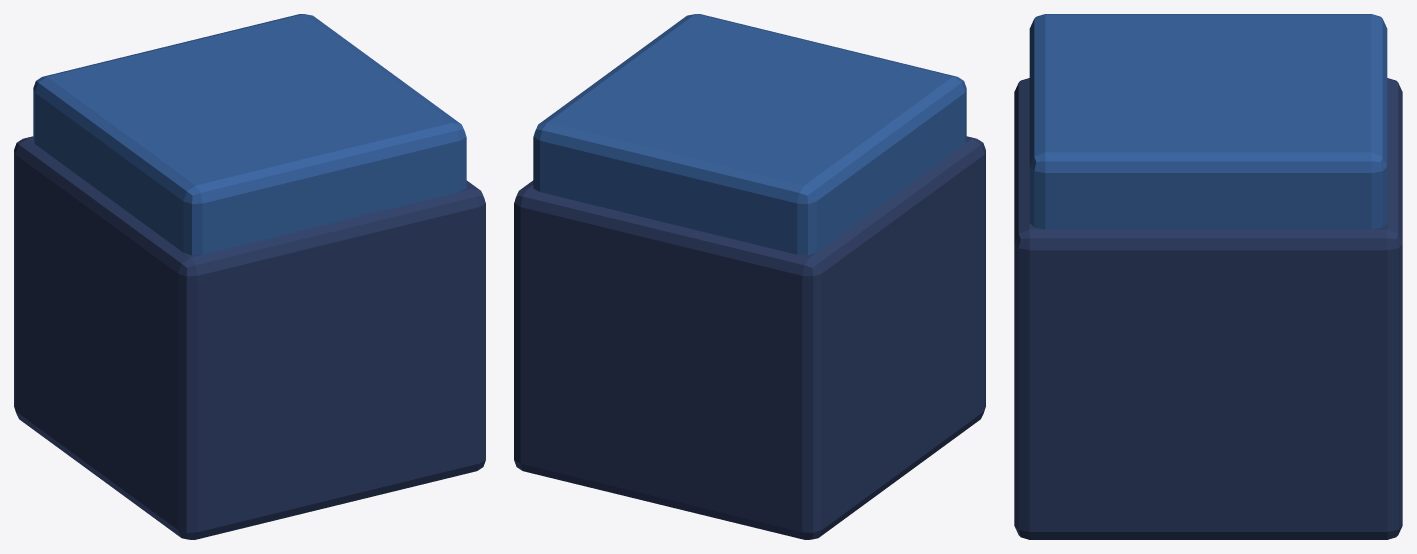
File: chalk.glb
3 views of the same model, side by side, from view 1: azimuth 30°, elevation 25°; view 2: azimuth 150°, elevation 25°; view 3: azimuth 270°, elevation 25° (orthographic). The views are drawn at different scales.
Parts seen in each view (by area): view 1: Chalk | paper sleeve, Chalk | blue top; view 2: Chalk | paper sleeve, Chalk | blue top; view 3: Chalk | paper sleeve, Chalk | blue top.
Part boxes in pixels (box(x1,y1,x2,y2)): Chalk | paper sleeve: box(14, 136, 485, 539); Chalk | blue top: box(33, 14, 466, 255); Chalk | paper sleeve: box(514, 136, 985, 539); Chalk | blue top: box(533, 14, 966, 255); Chalk | paper sleeve: box(1014, 78, 1402, 539); Chalk | blue top: box(1029, 14, 1387, 229).
Bounding box in the file's own units: 0.025 × 0.027 × 0.025.
